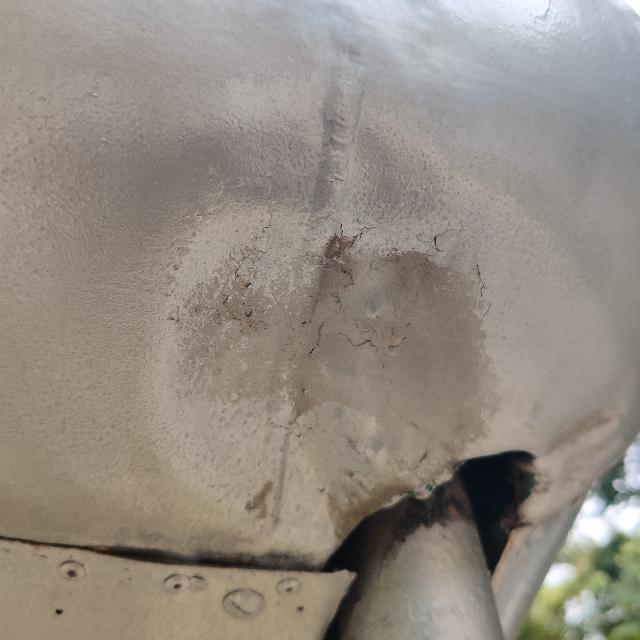dent: (144, 172, 494, 522), (533, 386, 633, 480)
